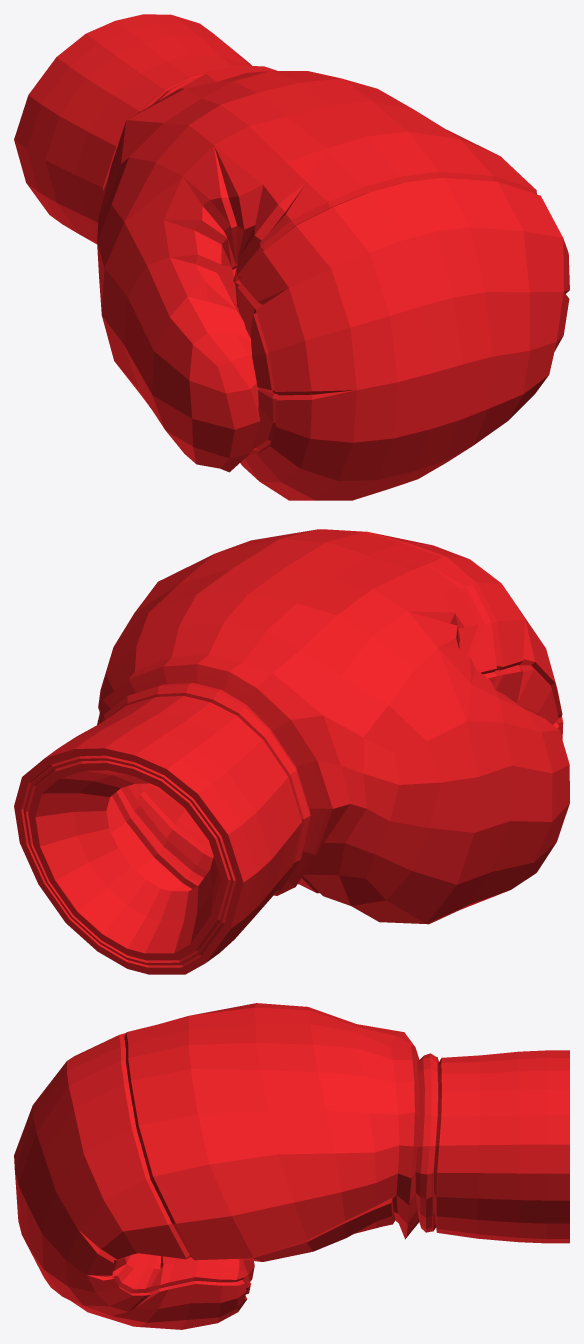
Rendered from player1_glove2.fbx.
The picture shows the model from 3 angles, top to bottom: view 1: azimuth 30°, elevation 25°; view 2: azimuth 150°, elevation 25°; view 3: azimuth 270°, elevation 25°; orthographic projection. The views are drawn at different scales.
Visible parts, largest first — view 1: node_id6; view 2: node_id6; view 3: node_id6.
Boxes of the visible parts, x1,y1,x2,y2 form: node_id6: [14, 14, 569, 500]; node_id6: [14, 529, 569, 974]; node_id6: [14, 1003, 569, 1329].
Bounding box in the file's own units: 0.3569 × 0.2914 × 0.511.
Materials: 1 (1 with a texture image).
